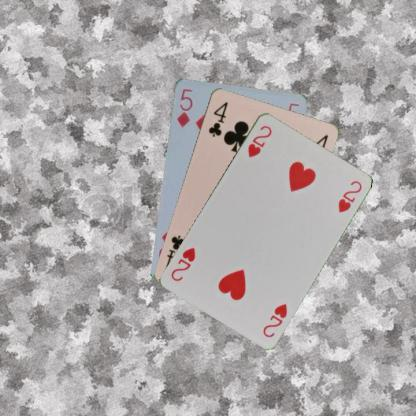2h: (260, 300, 289, 338), (245, 122, 273, 158)
4c: (205, 99, 229, 138)
5d: (174, 86, 193, 128)
